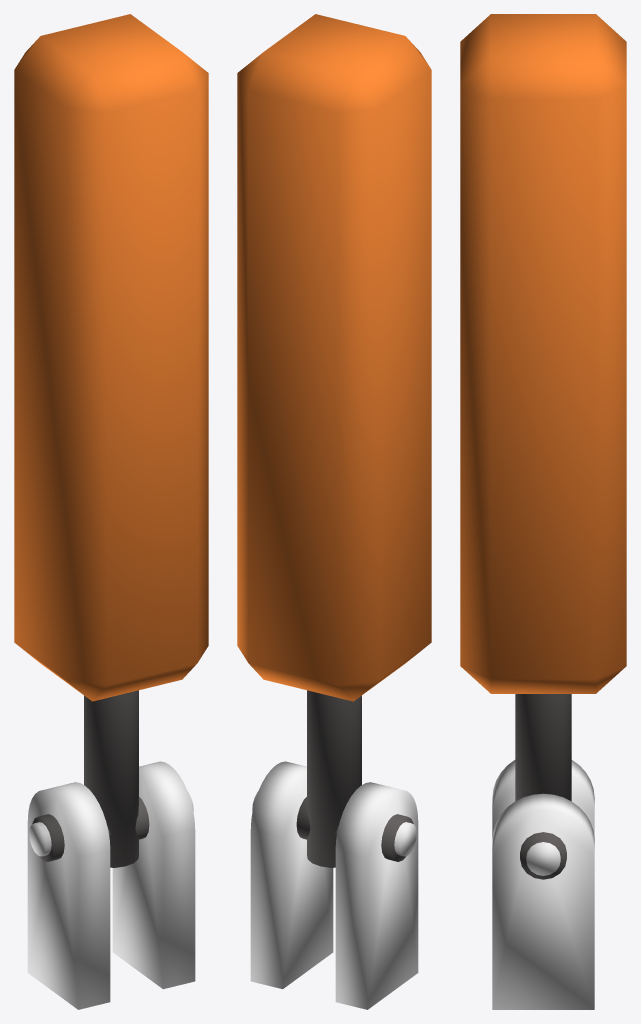
The model's file is Obstacle 22 V3.fbx.
3 renders of one model, left to right at view 1: azimuth 30°, elevation 25°; view 2: azimuth 150°, elevation 25°; view 3: azimuth 270°, elevation 25°, orthographic.
Parts seen in each view (by area): view 1: O22 Part 2, O22 Part 1; view 2: O22 Part 2, O22 Part 1; view 3: O22 Part 2, O22 Part 1.
Part boxes in pixels (x1,y1,x2,y2): O22 Part 2: (14,14,208,867); O22 Part 1: (27,761,195,1009); O22 Part 2: (237,14,431,867); O22 Part 1: (250,761,418,1009); O22 Part 2: (460,14,626,879); O22 Part 1: (492,760,594,1009).
Bounding box in the file's own units: 64.76 × 391 × 62.5.
1 material, 1 textured.
